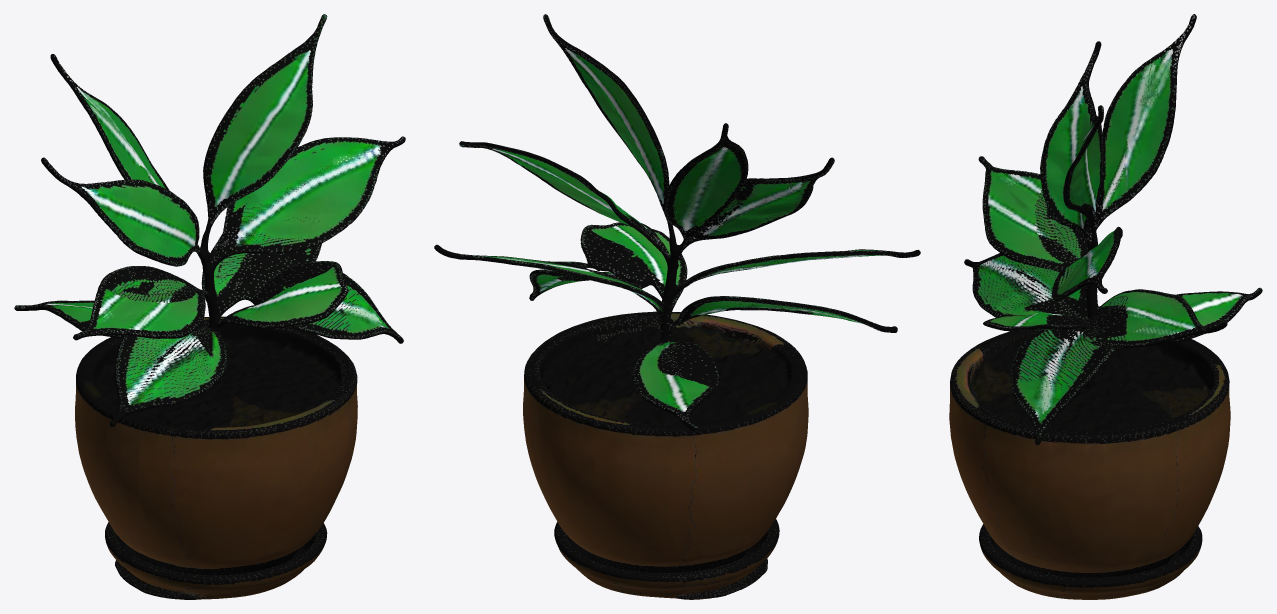
The model's file is growth-planter-b-generated-2026-04-18t01-36-15-986z-texture-wrap-2026-04-18T01-38-19-536Z.high.glb.
3 renders of one model, left to right at view 1: azimuth 30°, elevation 25°; view 2: azimuth 150°, elevation 25°; view 3: azimuth 270°, elevation 25°, orthographic.
Parts seen in each view (by area): view 1: temp_mesh.ply; view 2: temp_mesh.ply; view 3: temp_mesh.ply.
Part boxes in pixels (x1=…): temp_mesh.ply: x1=14, y1=14, x2=405, y2=599; temp_mesh.ply: x1=434, y1=14, x2=920, y2=599; temp_mesh.ply: x1=949, y1=14, x2=1262, y2=599.
Size of the model in its own units: 1.57 by 1.97 by 1.08.
1 material, 1 textured.
